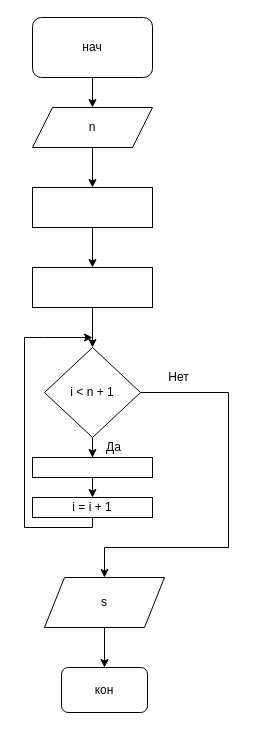
This 254x730 diagram has some shape labels left out. The centre of each missing label's shape, as x and y in pixels:
"i = 1" belongs at (92,207).
"s = 1" belongs at (92,287).
"s = s * i" belongs at (92,467).
